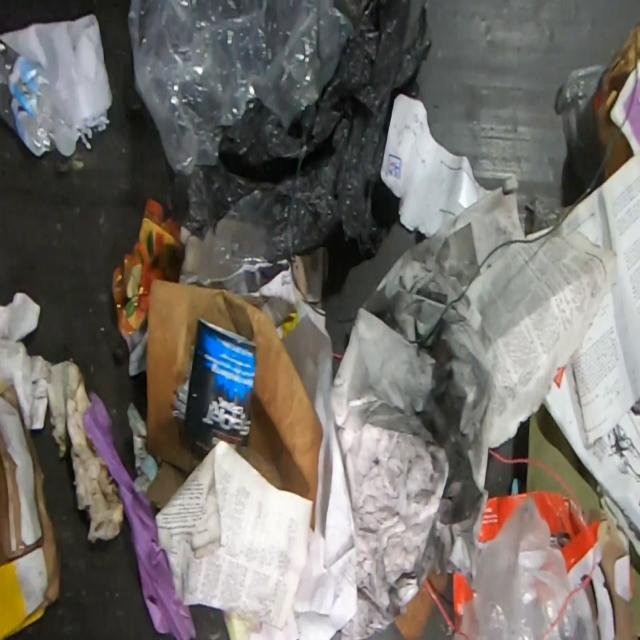cardboard: (146, 278, 321, 512), (478, 490, 636, 639), (0, 382, 62, 639), (528, 405, 602, 511), (590, 24, 640, 180), (452, 573, 471, 628)
rigid_plastic: (1, 39, 77, 157), (553, 63, 609, 194)
soft_plastic: (172, 1, 432, 295), (127, 1, 363, 174), (452, 494, 598, 640), (172, 194, 277, 289)
